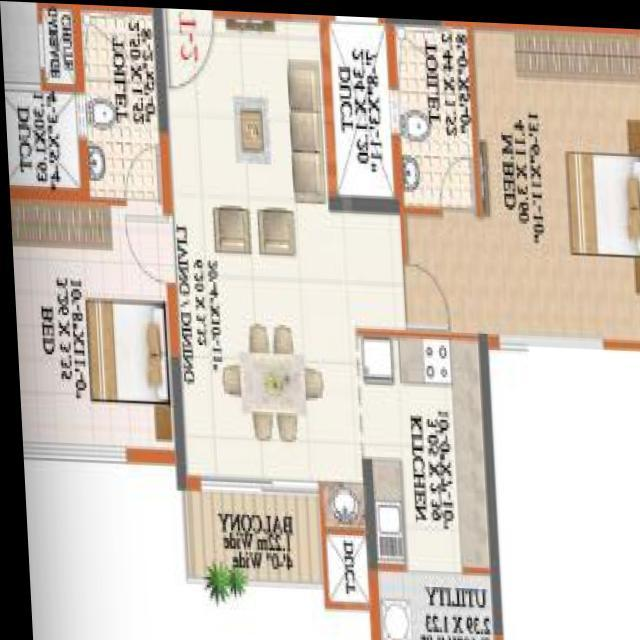Balcony-Sitout: (174, 472, 362, 593)
Bedroom: (8, 191, 186, 465)
Bedroom with Toilet: (389, 14, 640, 348)
Dining: (212, 321, 321, 441)
Kitchen: (355, 320, 494, 572)
Living: (150, 5, 335, 206)
Toilet: (384, 13, 481, 213), (73, 3, 169, 198)
Utility: (361, 560, 497, 640)
